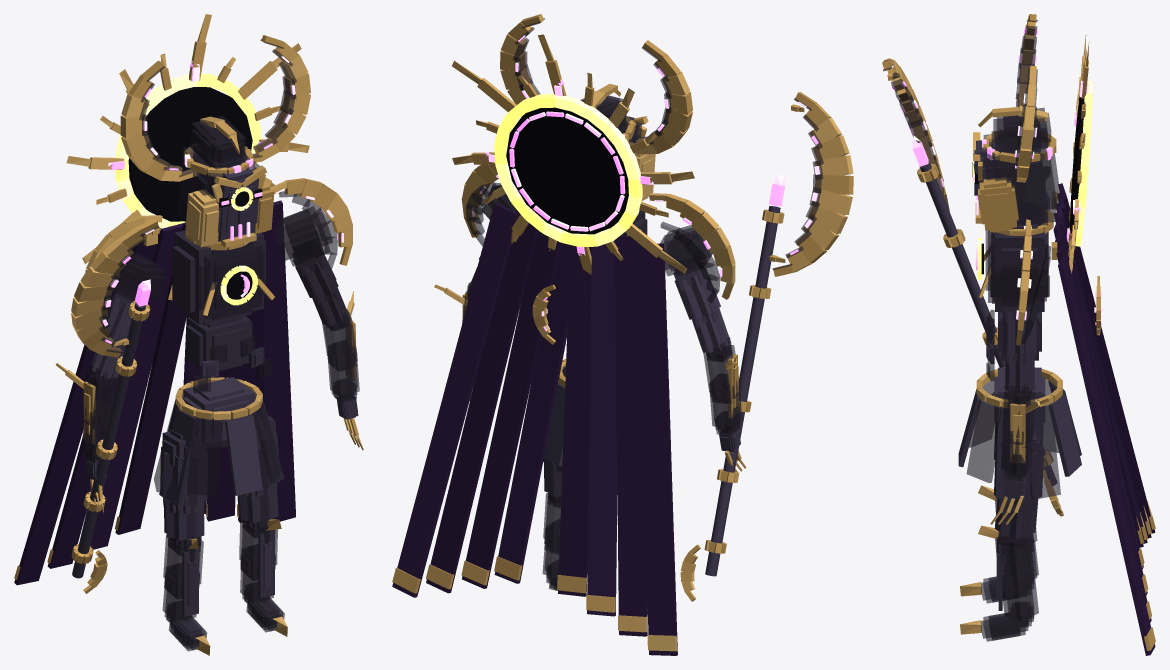
The picture shows the model from 3 angles, left to right: view 1: azimuth 30°, elevation 25°; view 2: azimuth 150°, elevation 25°; view 3: azimuth 270°, elevation 25°; orthographic projection.
Parts seen in each view (by area): view 1: EclipseMonarch; view 2: EclipseMonarch; view 3: EclipseMonarch.
Boxes of the visible parts, x1,y1,x2,y2 form: EclipseMonarch: [14, 14, 363, 655]; EclipseMonarch: [392, 14, 853, 655]; EclipseMonarch: [882, 14, 1155, 655].
Bounding box in the file's own units: 1.17 × 1.89 × 0.7988.
